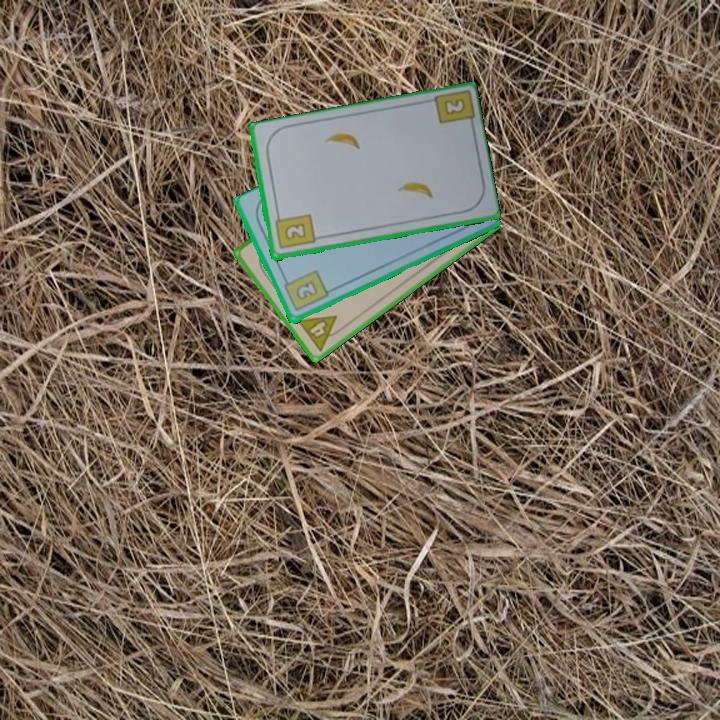2b: (280, 267, 331, 315), (271, 210, 318, 252), (440, 95, 468, 118)
4p: (294, 312, 348, 354)
